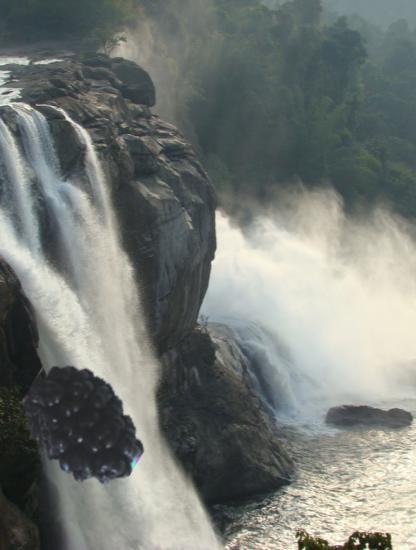Mulberry: (18, 360, 149, 491)
